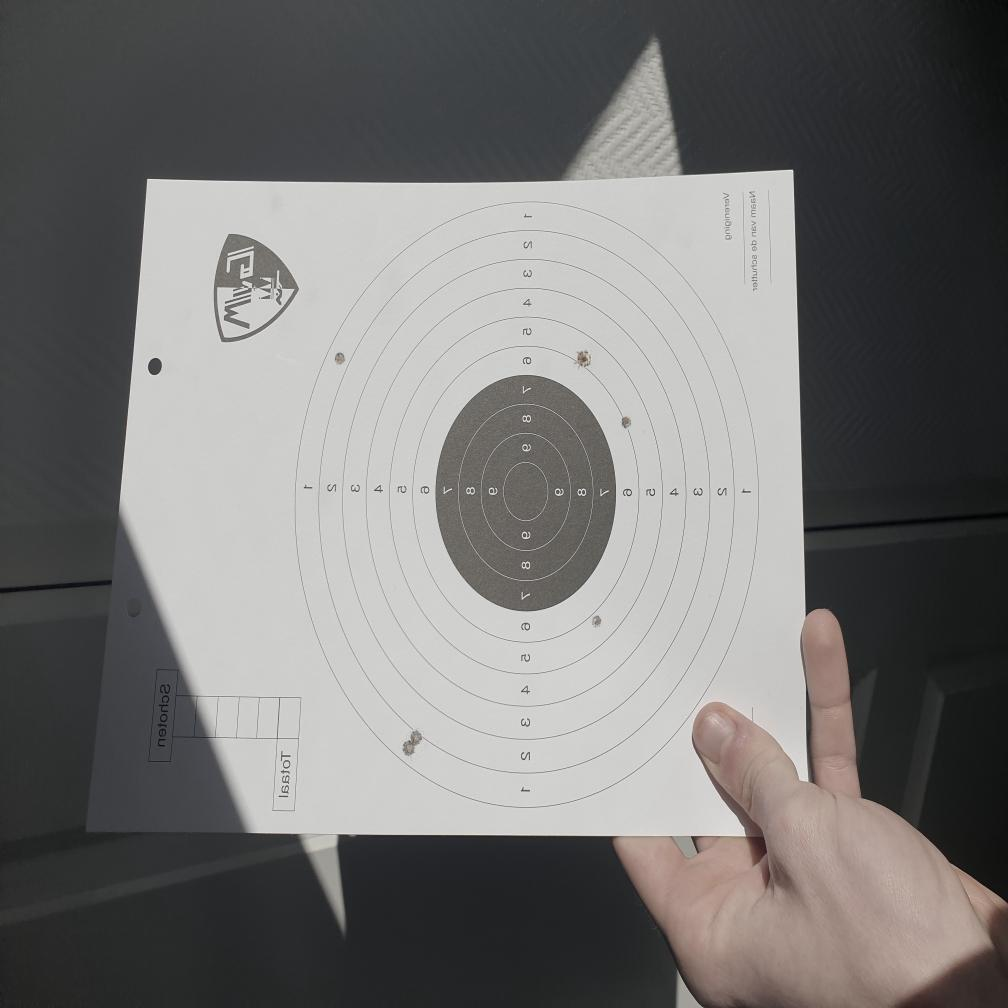1: (401, 740, 418, 762), (334, 350, 346, 367)
2: (410, 730, 425, 745)
5: (591, 613, 603, 629)
6: (574, 347, 594, 373), (618, 412, 632, 433)
Target: (291, 196, 761, 812)
black_contour: (436, 374, 616, 612)
